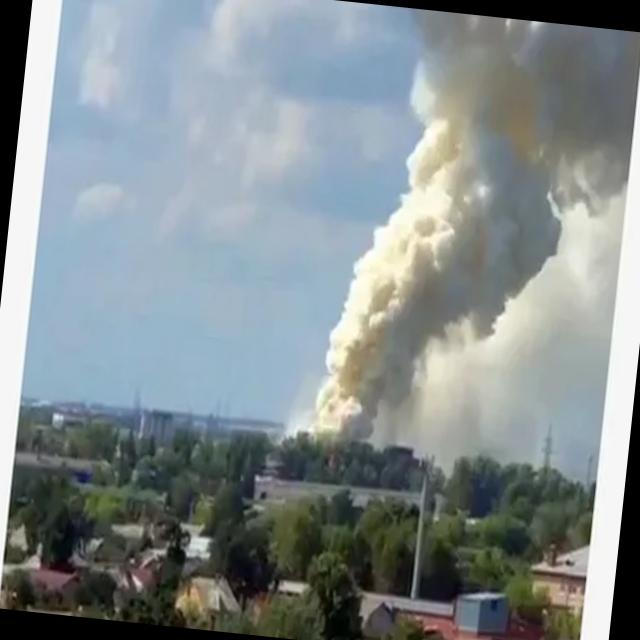Smoke: (313, 2, 640, 460)
